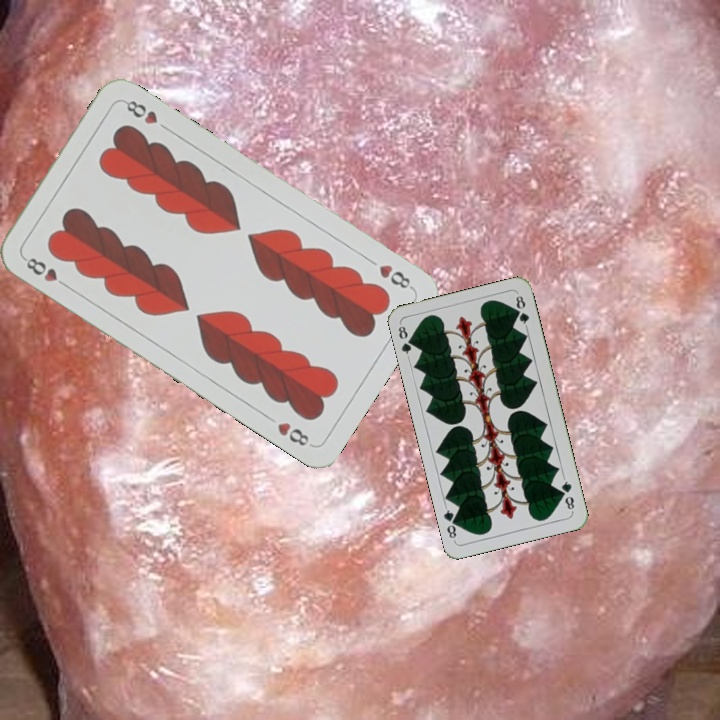G8: (394, 320, 417, 361), (557, 474, 577, 515)
H8: (19, 253, 72, 291), (375, 260, 416, 292)
